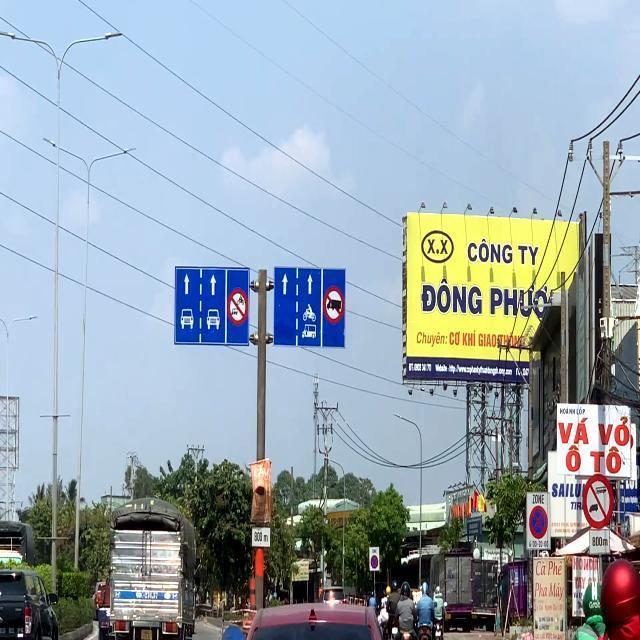130-cam-dung-va-do-xe: (529, 506, 547, 538)
